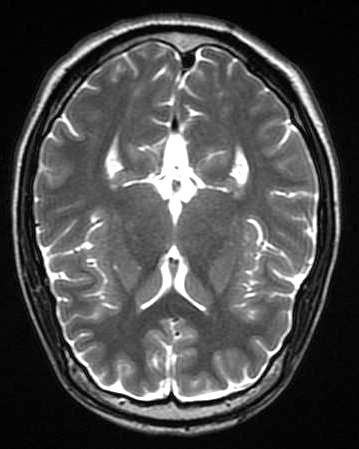Normal_Brain: (1, 8, 359, 449)
